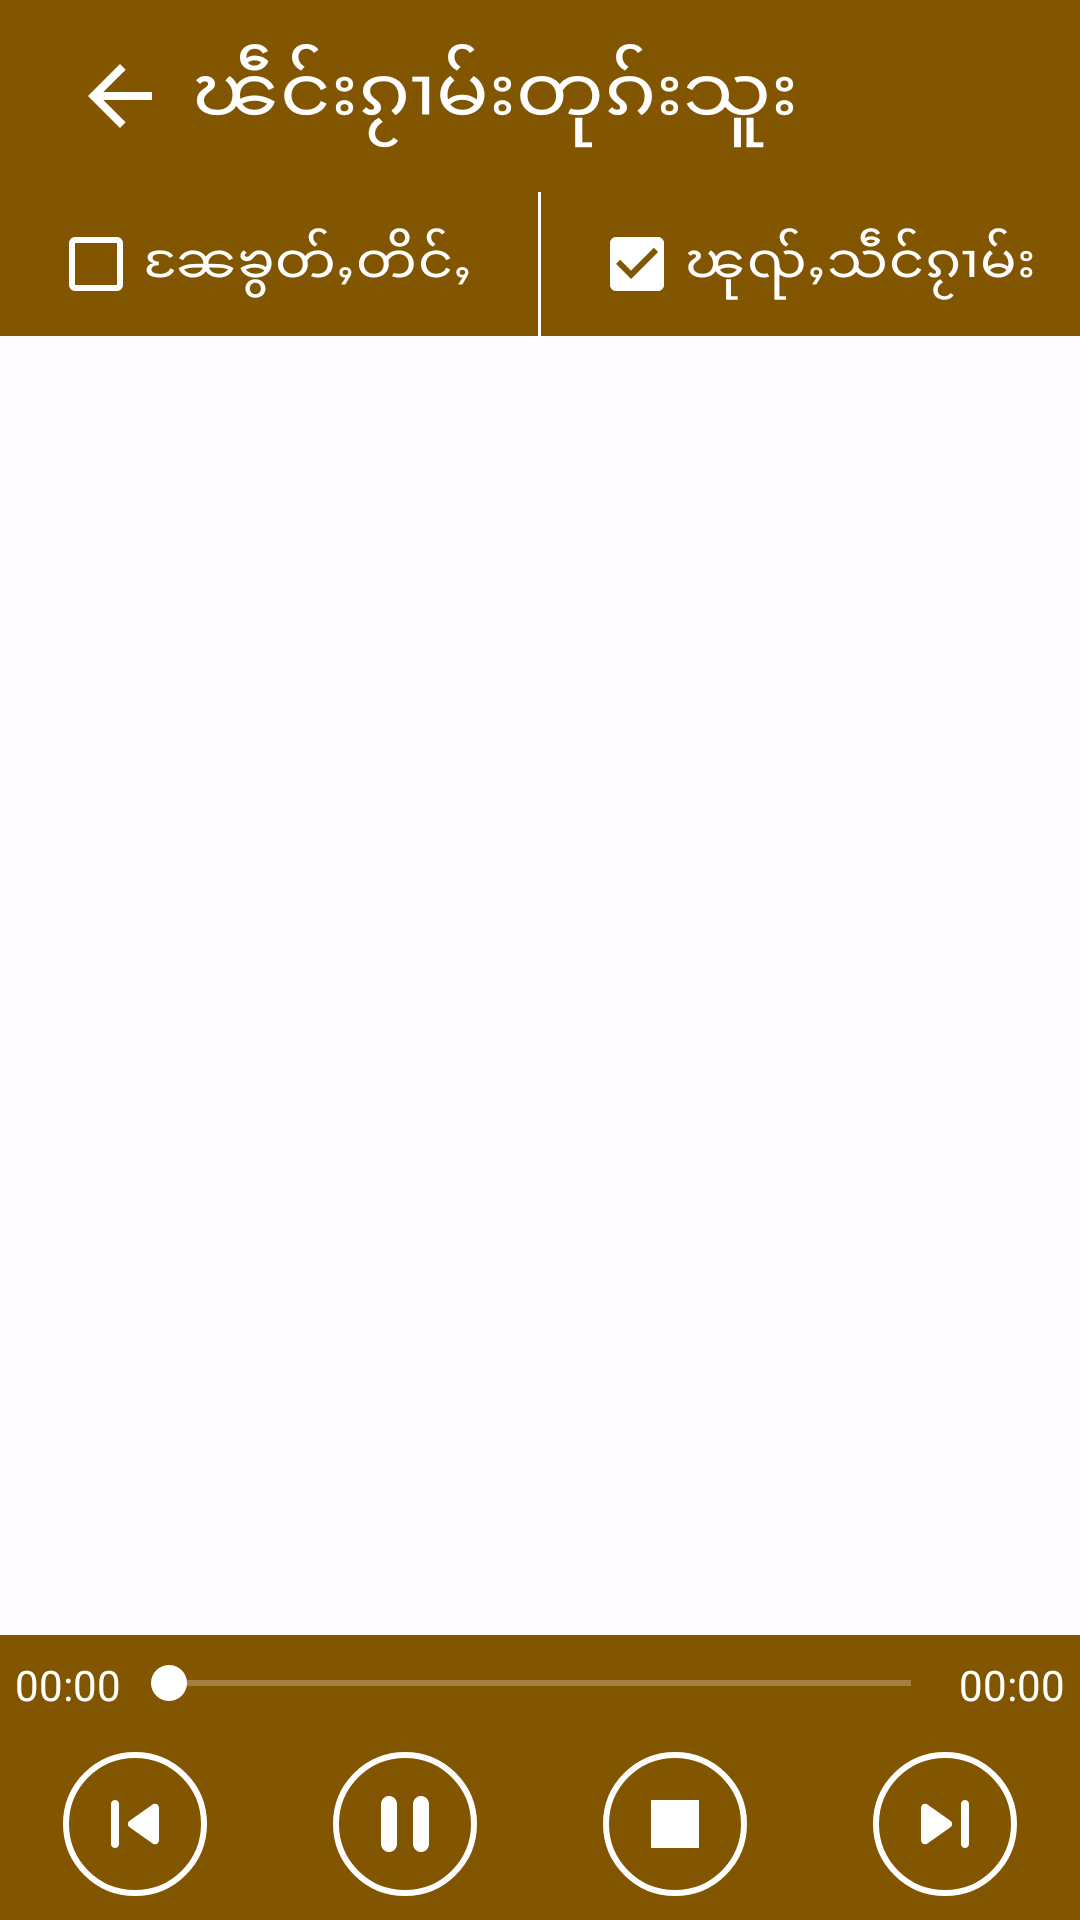

Screen size 1080 × 1920. Icon name, then its center in pixels as point (x, y):
back arrow: point (120, 96)
Next: point (945, 1824)
pause: point (405, 1824)
Previous: point (135, 1824)
stop: point (675, 1824)
